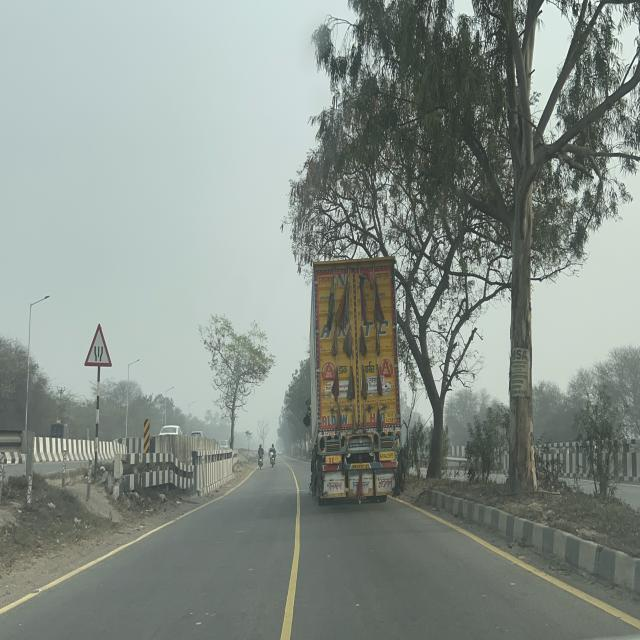ROAD_WIDENS_AHEAD: (84, 323, 112, 367)
